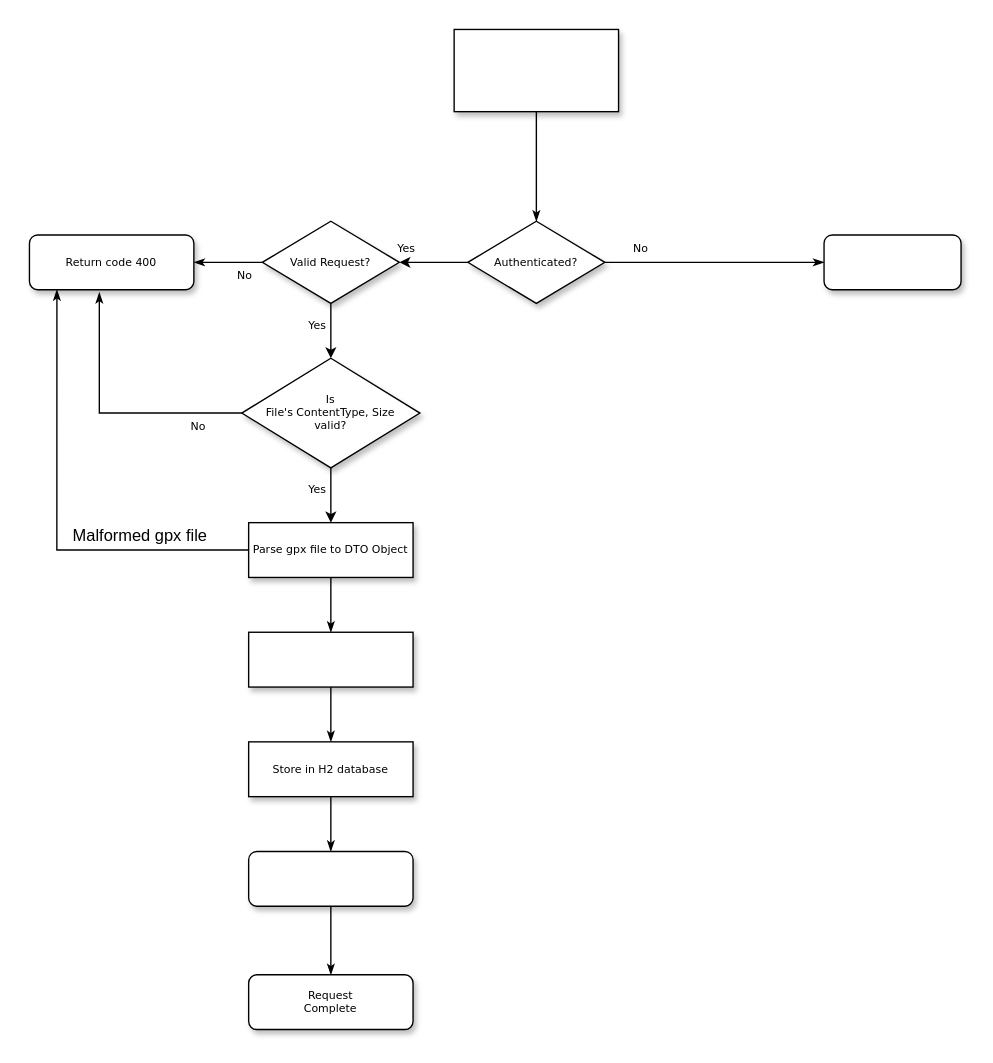
The diagram is 993 pixels wide and 1063 high, and some of its shapes have lost their labels. Each missing label, with the centre of its shape:
"API Endpoint POST /gpx/uploadFile" goes at point (537, 72).
"Map DTO to Domain" goes at point (331, 661).
"Return code 201" goes at point (331, 880).
"Return code 401" goes at point (893, 263).
